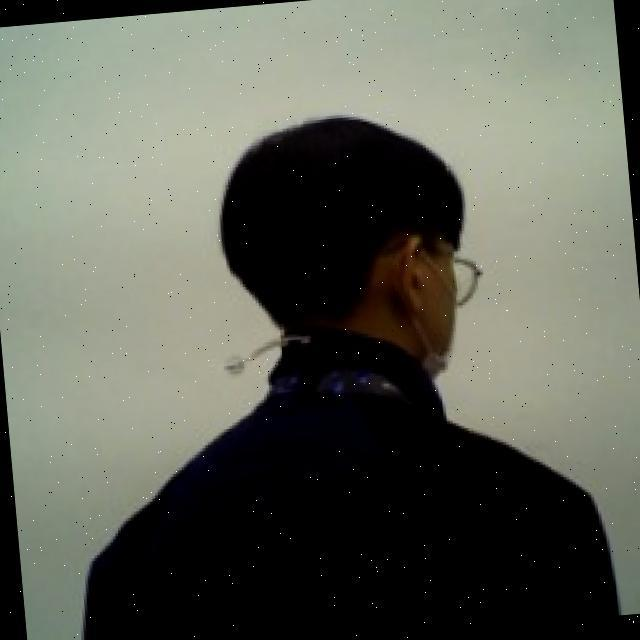no_gloves: (201, 104, 484, 346)
